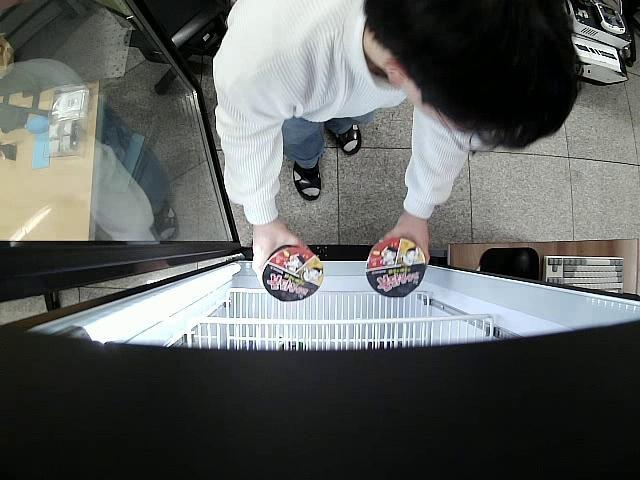07_buldak_L: (366, 237, 428, 298), (266, 246, 326, 304)
